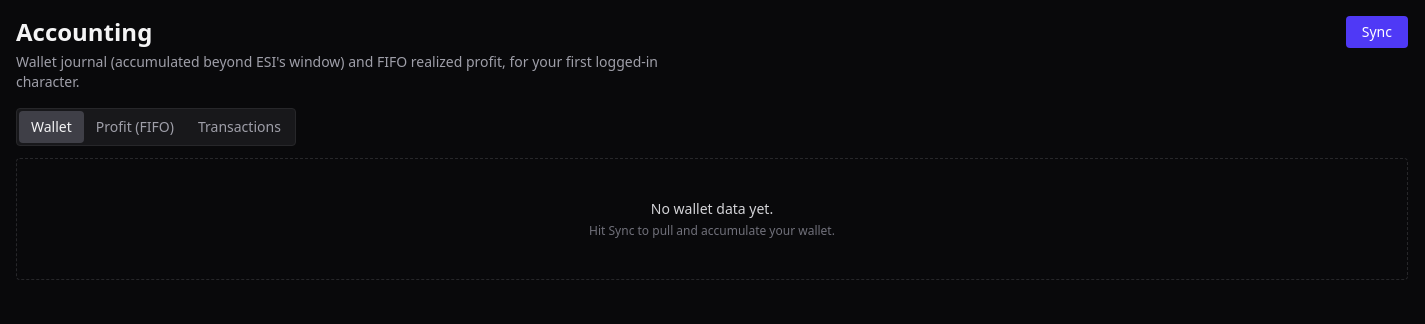
Test: AccountingPage — Profit tab › renders a net loss with an explicit minus sign and non-emerald color
Click the button "Profit (FIFO)" at (135,127), box [84,111,186,143]
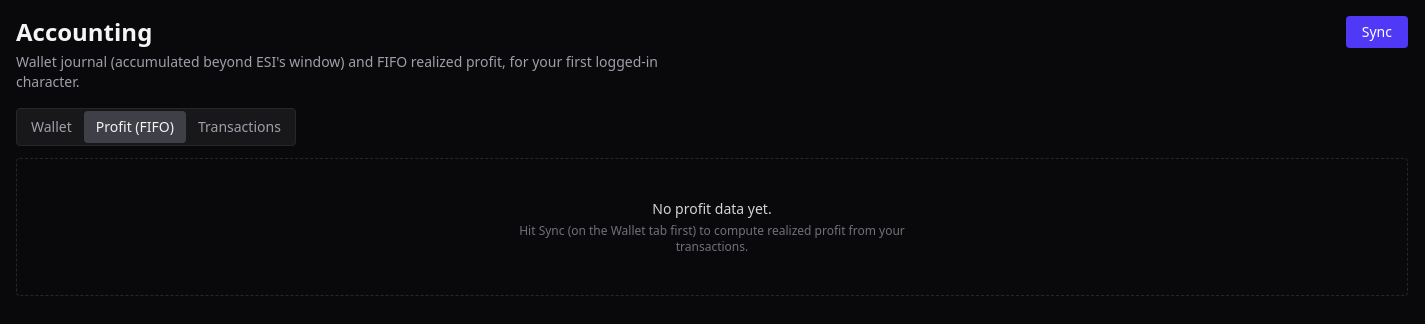
Click the button "Sync" at (1377,32), box [1346,16,1408,48]
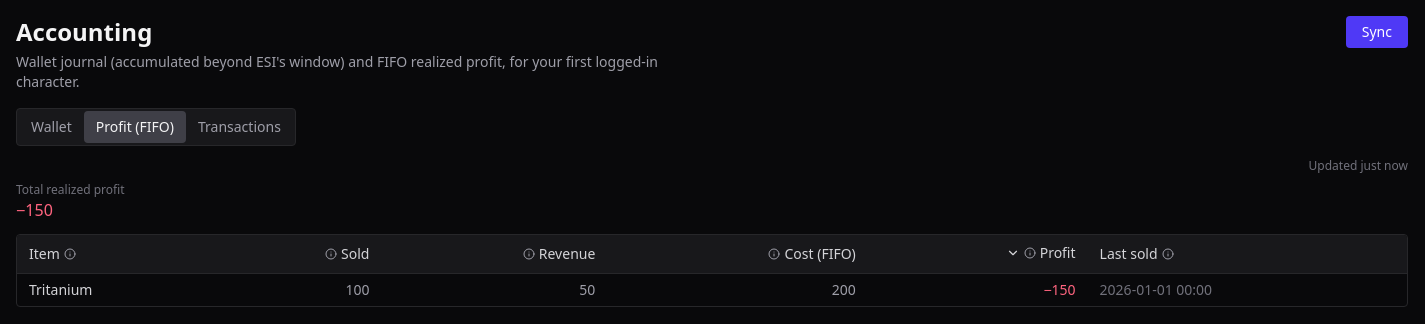
Now the text "−150" is shown 2 times, box [16,199,53,221]; [868,274,1088,306]
